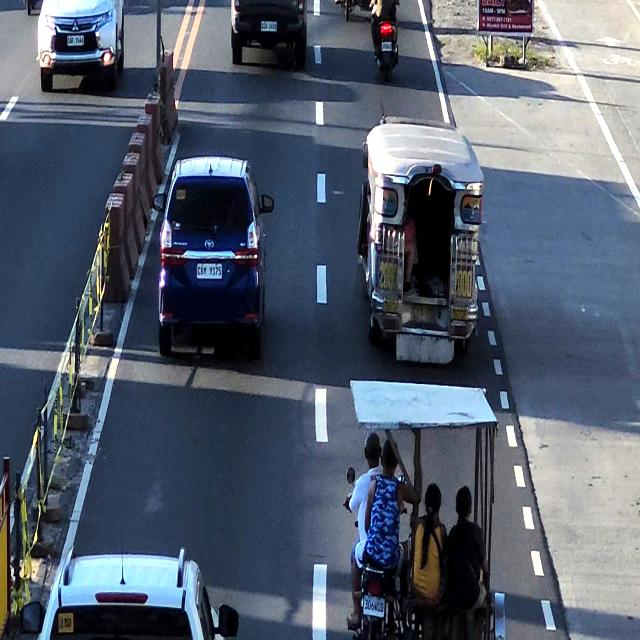Car: (156, 149, 265, 357), (50, 552, 238, 640), (232, 0, 309, 69)
Jeep: (359, 114, 473, 356)
License-Plate: (362, 588, 387, 617), (414, 302, 442, 327), (195, 263, 225, 281), (258, 18, 280, 34)
Motorcycle: (367, 0, 399, 86)
Tricycle: (338, 368, 512, 640)
